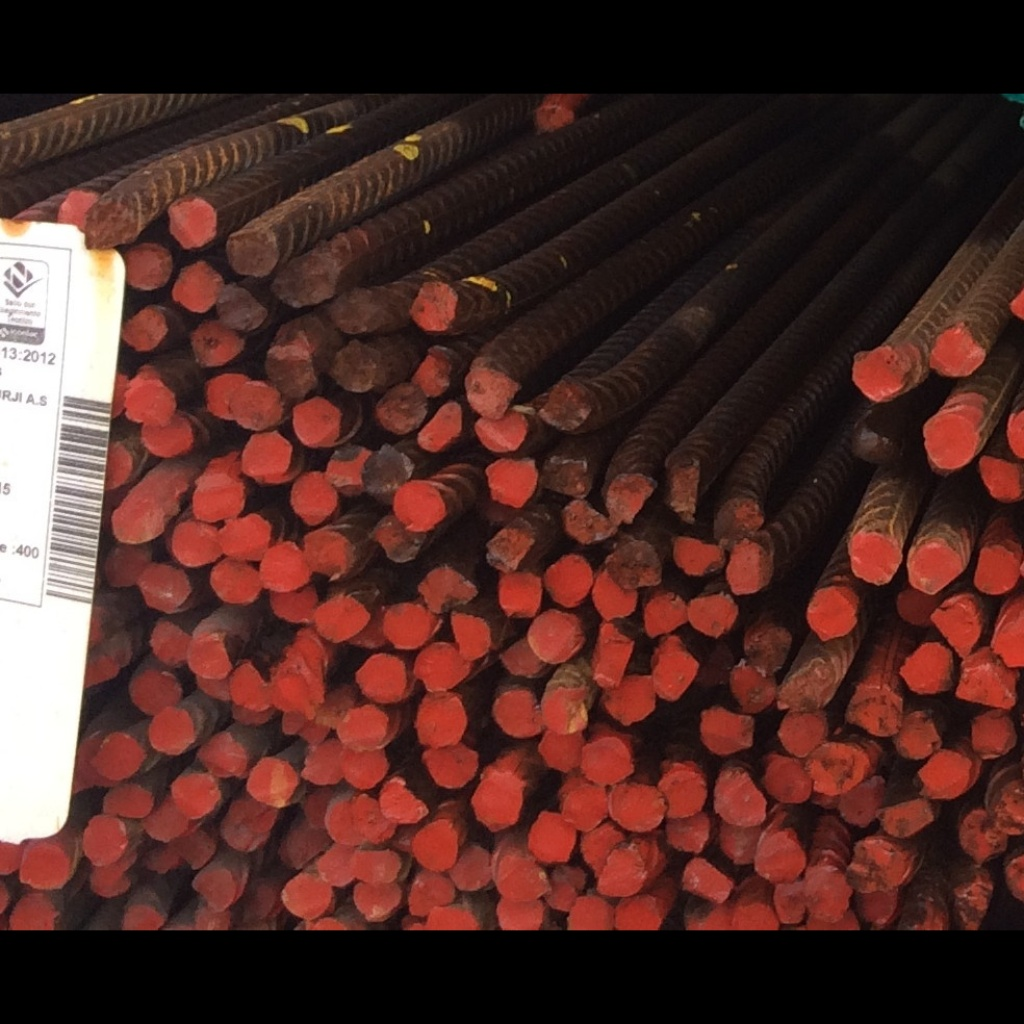dipstick: (957, 653, 1019, 710), (715, 770, 765, 827), (853, 840, 907, 891), (673, 532, 727, 582), (355, 654, 407, 704), (611, 782, 664, 830), (922, 419, 970, 471), (275, 258, 333, 301), (364, 447, 410, 501), (166, 199, 216, 248), (416, 694, 465, 744), (606, 678, 656, 727), (903, 644, 953, 693), (190, 317, 241, 365), (377, 382, 425, 433), (852, 532, 898, 585), (416, 568, 472, 611), (853, 350, 903, 398), (703, 708, 754, 755), (765, 756, 811, 808), (810, 750, 864, 794), (476, 772, 518, 828), (494, 686, 541, 736), (211, 559, 263, 604), (463, 368, 512, 415), (527, 611, 574, 660), (962, 809, 1006, 861), (805, 590, 853, 637), (582, 736, 628, 785), (592, 621, 628, 683), (918, 754, 971, 796), (877, 799, 934, 838), (289, 398, 336, 445), (395, 482, 442, 529), (173, 521, 220, 568), (564, 499, 611, 546), (546, 556, 594, 602), (248, 759, 296, 805), (86, 202, 135, 247), (268, 343, 313, 392), (934, 604, 978, 654), (225, 232, 277, 274), (411, 284, 457, 331), (217, 283, 262, 331), (173, 262, 217, 311), (333, 343, 377, 392), (913, 542, 957, 591), (532, 812, 574, 863), (988, 772, 1022, 835), (244, 430, 290, 476), (150, 708, 196, 754), (195, 474, 240, 521), (447, 611, 494, 656), (977, 453, 1022, 500), (417, 645, 465, 689), (222, 513, 265, 562), (489, 457, 532, 506), (412, 822, 454, 872), (938, 327, 980, 377), (805, 868, 847, 918), (608, 544, 659, 585), (338, 708, 389, 749), (234, 380, 279, 426), (291, 473, 337, 518), (20, 845, 65, 891), (853, 687, 899, 732), (198, 729, 245, 773), (540, 685, 584, 732), (603, 851, 647, 898), (141, 567, 190, 609), (259, 547, 308, 589), (148, 620, 190, 669), (113, 500, 163, 541), (376, 781, 426, 822), (283, 875, 333, 916), (422, 748, 477, 785), (667, 464, 702, 522), (971, 709, 1015, 755), (894, 713, 940, 757), (759, 835, 803, 881), (123, 245, 170, 288), (541, 384, 584, 431), (495, 573, 542, 616), (353, 794, 395, 842), (123, 305, 167, 350), (381, 603, 427, 646), (305, 529, 345, 578), (133, 670, 182, 710), (496, 857, 545, 897), (978, 544, 1017, 594), (96, 735, 143, 776), (301, 744, 345, 787), (728, 540, 763, 594), (858, 419, 900, 464), (139, 416, 190, 453), (317, 597, 363, 638), (205, 372, 245, 419), (328, 290, 377, 328), (610, 473, 645, 526), (331, 446, 368, 496), (107, 544, 150, 587), (689, 593, 732, 636), (272, 669, 315, 712), (491, 526, 533, 570), (720, 826, 761, 871), (170, 775, 217, 814), (285, 820, 324, 867), (421, 401, 459, 449), (352, 881, 401, 918), (541, 729, 582, 773), (266, 585, 316, 621), (596, 571, 636, 616), (733, 663, 773, 708), (643, 595, 689, 634), (662, 771, 701, 817), (685, 862, 731, 901), (474, 414, 525, 449), (580, 827, 622, 869), (377, 522, 421, 562), (219, 813, 264, 852), (652, 649, 685, 702), (995, 610, 1024, 670), (234, 794, 282, 830), (782, 712, 823, 754), (544, 456, 587, 496), (104, 783, 150, 820), (749, 624, 785, 671), (416, 347, 449, 398), (898, 585, 938, 627), (128, 380, 171, 419), (567, 784, 606, 827), (719, 497, 755, 543), (455, 848, 491, 894), (228, 666, 271, 704), (190, 638, 233, 676), (87, 816, 123, 861), (783, 674, 828, 710), (345, 750, 386, 789), (500, 640, 542, 678), (8, 896, 54, 930), (549, 863, 580, 912), (664, 818, 710, 851), (59, 190, 96, 231), (951, 884, 987, 926), (902, 894, 944, 930), (141, 805, 186, 838), (410, 877, 451, 913), (569, 898, 616, 929), (846, 779, 878, 824), (616, 896, 658, 930), (699, 642, 731, 686), (193, 871, 238, 902), (356, 849, 398, 882), (499, 896, 545, 926), (297, 790, 334, 827), (321, 848, 357, 886), (319, 689, 353, 729), (171, 835, 214, 866), (733, 898, 774, 930), (87, 862, 125, 896), (777, 879, 807, 922), (226, 702, 276, 727), (103, 444, 132, 487), (283, 713, 327, 741), (857, 893, 894, 926), (353, 616, 391, 648), (327, 801, 353, 845), (141, 841, 174, 873), (120, 903, 159, 930), (689, 905, 728, 930), (247, 885, 279, 915), (196, 676, 233, 701), (1006, 853, 1024, 901), (191, 907, 226, 930), (1009, 411, 1024, 455)
